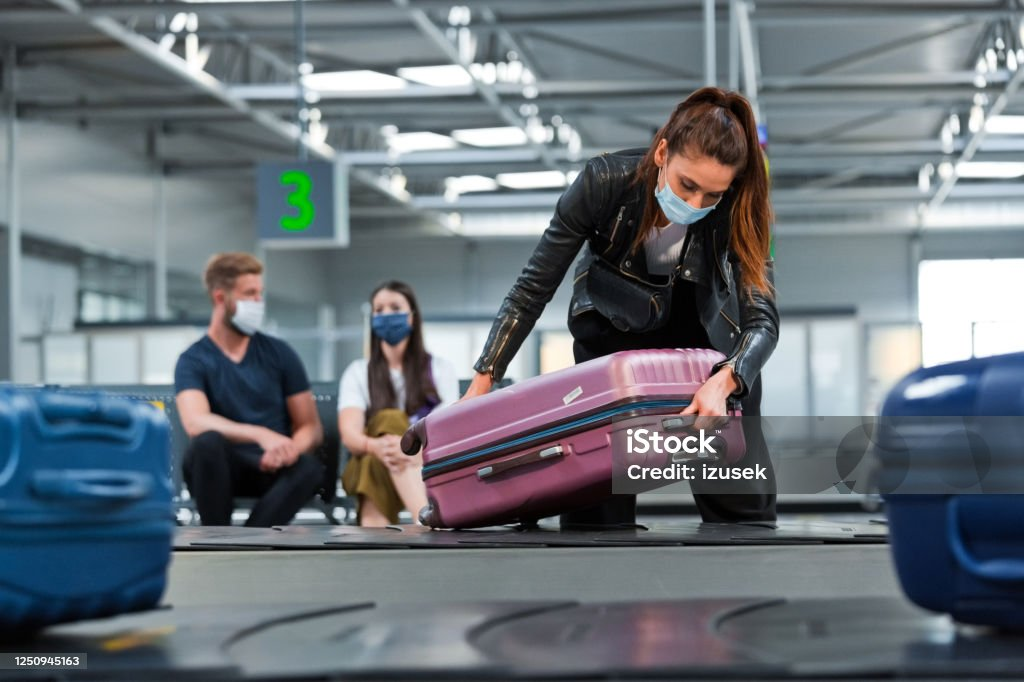baggage: (416, 346, 750, 535), (5, 367, 179, 636), (874, 348, 1024, 637)
